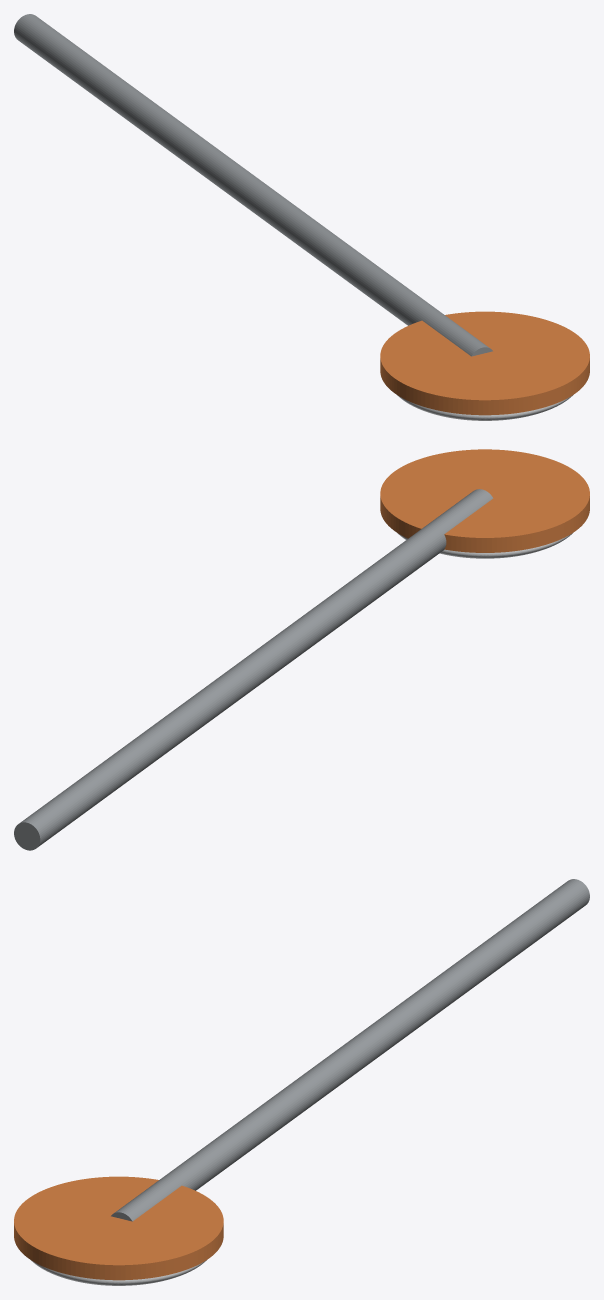
The model's file is SM_Taiwan_ConvexMirror_HQ.glb.
3 renders of one model, top to bottom at view 1: azimuth 30°, elevation 25°; view 2: azimuth 150°, elevation 25°; view 3: azimuth 330°, elevation 25°, orthographic.
Parts seen in each view (by area): view 1: mirror_housing, pole, convex_mirror; view 2: pole, mirror_housing, convex_mirror; view 3: mirror_housing, pole, convex_mirror.
Boxes of the visible parts, x1,y1,x2,y2 form: mirror_housing: [380, 311, 589, 415]; pole: [14, 14, 492, 356]; convex_mirror: [397, 395, 572, 420]; pole: [14, 489, 493, 850]; mirror_housing: [380, 449, 589, 552]; convex_mirror: [397, 533, 572, 558]; mirror_housing: [14, 1176, 223, 1280]; pole: [111, 879, 589, 1221]; convex_mirror: [31, 1260, 206, 1285].
Bounding box in the file's own units: 0.76 × 0.173 × 3.7.
